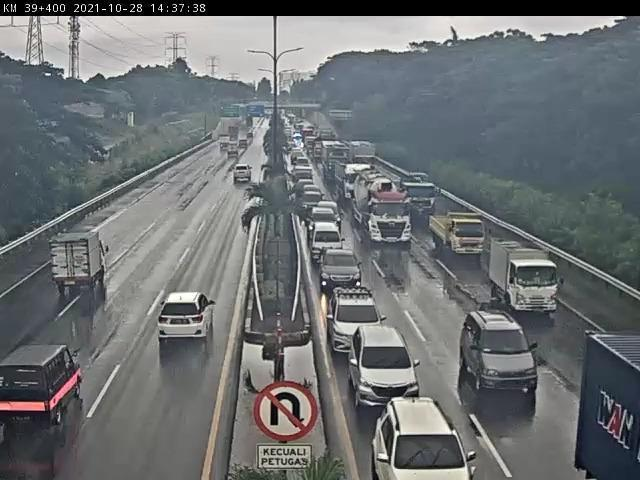car: (367, 393, 479, 480), (455, 310, 540, 393), (5, 339, 86, 424), (349, 325, 417, 406), (327, 288, 388, 356), (154, 287, 218, 344), (317, 246, 366, 297), (310, 219, 345, 256)
truck: (577, 325, 640, 480), (486, 236, 566, 315), (350, 176, 410, 251), (49, 230, 113, 293), (429, 208, 493, 260), (396, 170, 452, 229)
